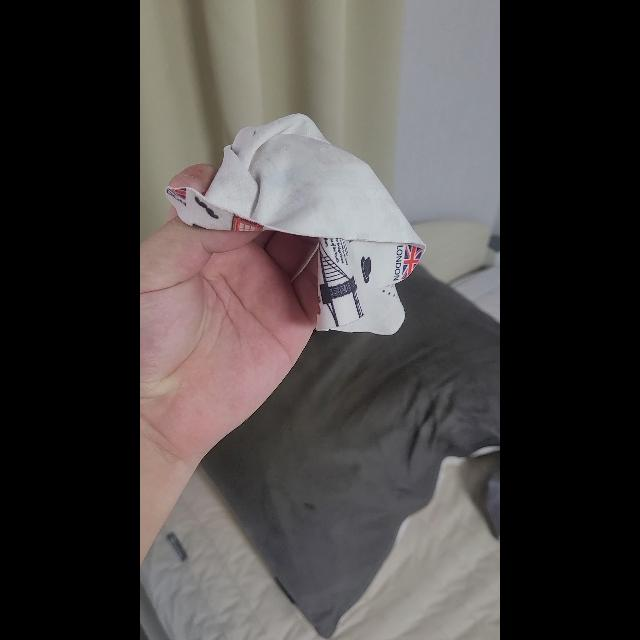Glasses cleaning cloth: (166, 113, 426, 335)
